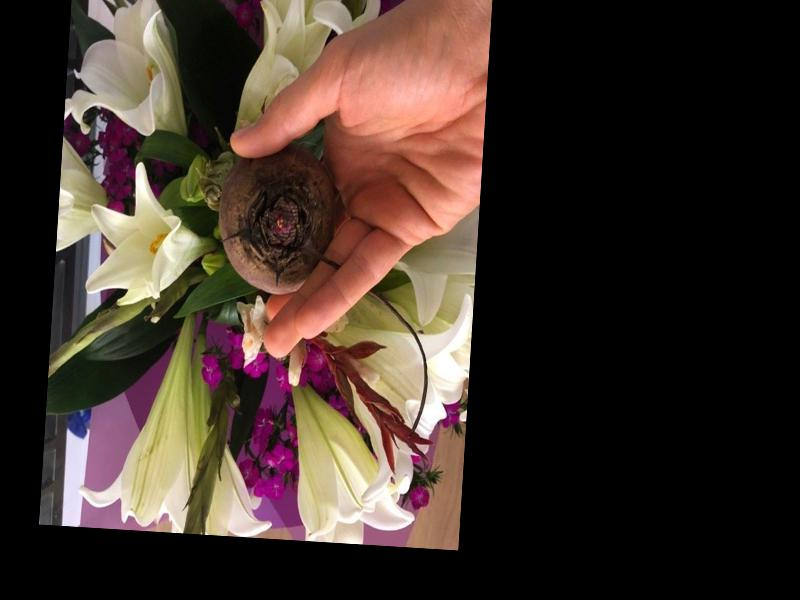Beet: (213, 142, 343, 300)
